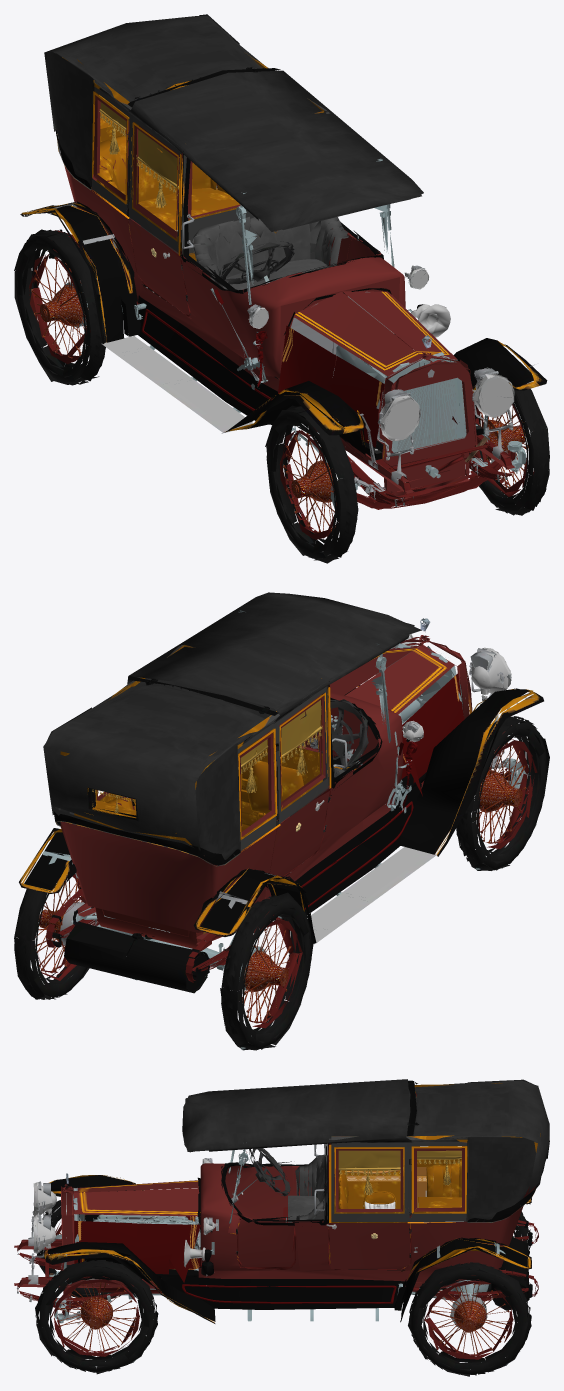
Rendered from eocha_hwanghu.glb.
3 renders of one model, top to bottom at view 1: azimuth 30°, elevation 25°; view 2: azimuth 150°, elevation 25°; view 3: azimuth 270°, elevation 25°, orthographic. The views are drawn at different scales.
Visible parts, largest first — view 1: OutGuide_Material _31_0, OutGuide_Material _3_0, OutGuide_Material _30_0, Object014_Material _3_0, Cylinder004_Material _3_0, Object012_Material _34_0, OutGuide_Material _3_0.002, OutGuide_Material _30_0.001, Object006_Material _31_0, Plane002_Material #440_0, OutGuide_Material _32_0, Object013_Material _3_0 (+14 smaller); view 2: OutGuide_Material _31_0, OutGuide_Material _3_0.002, Cylinder004_Material _3_0, Object014_Material _3_0, OutGuide_Material _30_0, OutGuide_Material _32_0, OutGuide_Material _3_0, Object006_Material _31_0, Object012_Material _34_0, Object015_Material _3_0, Object008_Material _3_0, Plane002_Material #440_0 (+14 smaller); view 3: OutGuide_Material _31_0, OutGuide_Material _3_0, OutGuide_Material _30_0, Object015_Material _3_0, Object013_Material _3_0, Object006_Material _31_0, Plane002_Material #440_0, Object012_Material _34_0, Object021_Material _30_0, OutGuide_Material _3_0.002, OutGuide_Material _32_0, Object021_Material _32_0 (+14 smaller).
Part boxes in pixels (x1=…): OutGuide_Material _31_0: x1=20, y1=14, x2=547, y2=459; OutGuide_Material _3_0: x1=46, y1=102, x2=526, y2=509; OutGuide_Material _30_0: x1=181, y1=257, x2=405, y2=379; Object014_Material _3_0: x1=265, y1=405, x2=358, y2=563; Cylinder004_Material _3_0: x1=14, y1=229, x2=106, y2=385; Object012_Material _34_0: x1=292, y1=291, x2=456, y2=376; OutGuide_Material _3_0.002: x1=21, y1=67, x2=513, y2=494; OutGuide_Material _30_0.001: x1=88, y1=257, x2=477, y2=496; Object006_Material _31_0: x1=138, y1=295, x2=301, y2=424; Plane002_Material #440_0: x1=278, y1=325, x2=457, y2=447; OutGuide_Material _32_0: x1=62, y1=56, x2=330, y2=261; Object013_Material _3_0: x1=469, y1=386, x2=549, y2=515; OutGuide_Material _31_0: x1=19, y1=592, x2=543, y2=942; OutGuide_Material _3_0.002: x1=64, y1=635, x2=511, y2=993; Cylinder004_Material _3_0: x1=220, y1=892, x2=313, y2=1050; Object014_Material _3_0: x1=456, y1=716, x2=549, y2=870; OutGuide_Material _30_0: x1=263, y1=692, x2=403, y2=859; OutGuide_Material _32_0: x1=58, y1=645, x2=331, y2=851; OutGuide_Material _3_0: x1=42, y1=634, x2=528, y2=991; Object006_Material _31_0: x1=272, y1=781, x2=421, y2=924; Object012_Material _34_0: x1=328, y1=645, x2=454, y2=714; Object015_Material _3_0: x1=14, y1=864, x2=93, y2=999; Object008_Material _3_0: x1=290, y1=847, x2=436, y2=943; Plane002_Material #440_0: x1=401, y1=673, x2=464, y2=796; OutGuide_Material _31_0: x1=43, y1=1079, x2=549, y2=1323; OutGuide_Material _3_0: x1=17, y1=1097, x2=549, y2=1329; OutGuide_Material _30_0: x1=200, y1=1163, x2=345, y2=1271; Object015_Material _3_0: x1=408, y1=1262, x2=531, y2=1376; Object013_Material _3_0: x1=35, y1=1260, x2=158, y2=1374; Object006_Material _31_0: x1=161, y1=1276, x2=406, y2=1309; Plane002_Material #440_0: x1=74, y1=1216, x2=201, y2=1282; Object012_Material _34_0: x1=73, y1=1180, x2=200, y2=1216; Object021_Material _30_0: x1=329, y1=1222, x2=410, y2=1269; OutGuide_Material _3_0.002: x1=18, y1=1082, x2=530, y2=1310; OutGuide_Material _32_0: x1=329, y1=1082, x2=540, y2=1263; Object021_Material _32_0: x1=331, y1=1136, x2=407, y2=1221.
Bounding box in the file's own units: 1.55 × 1.84 × 3.83.
21 materials, 18 textured.
